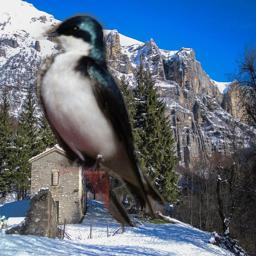Swallow: (33, 12, 166, 227)
